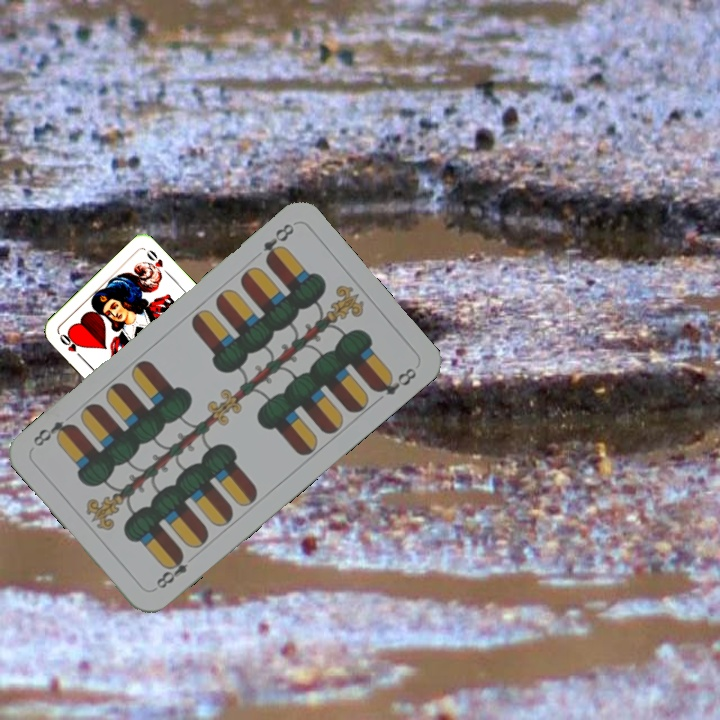E8: (149, 548, 190, 593), (258, 219, 297, 266)
HO: (55, 330, 87, 362)
